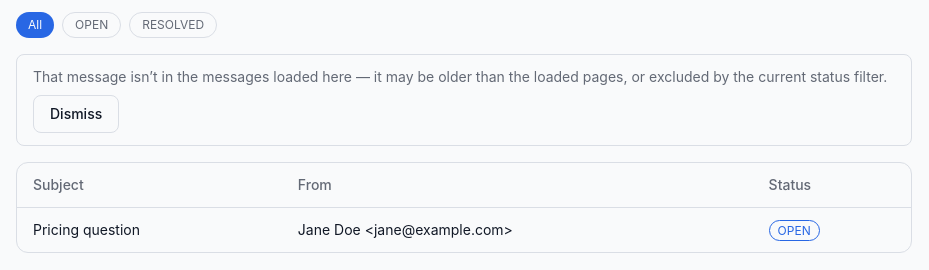
Test: InboxPage › offers to clear the status filter when one is hiding the deep-linked message
This screenshot has width=929, height=270.
Expected: the text "Pricing question" is shown, [17,208,282,252]
Expected: the button "Show all statuses" is not shown
Click the button "RESOLVED" at coordinates (173, 25), box [129,12,217,38]
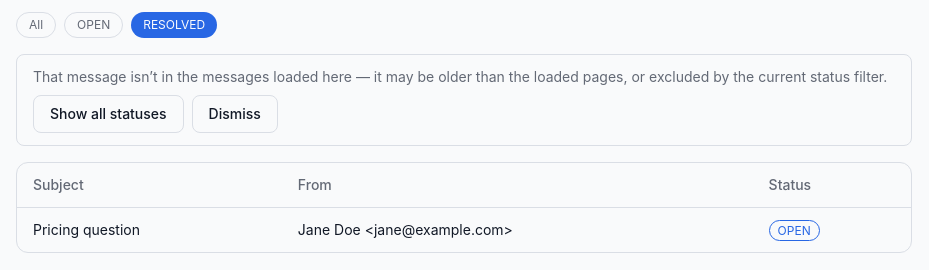
Result: the button "Show all statuses" is shown at [33,95,184,133]
